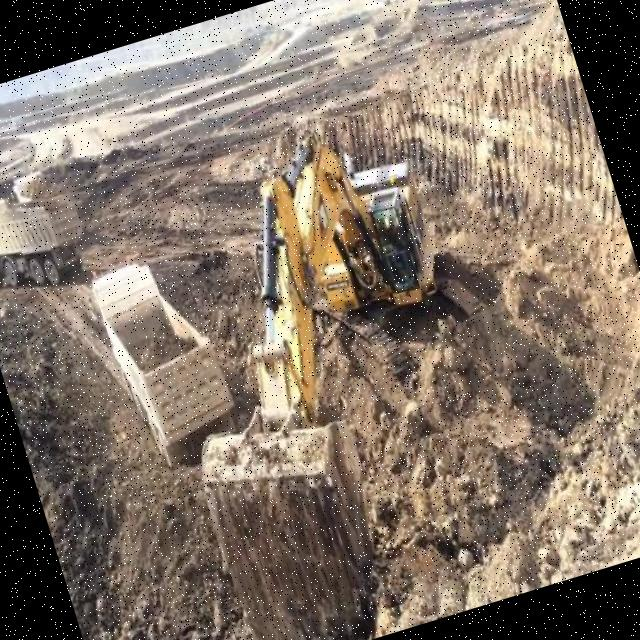Dump Truck: (77, 238, 250, 472), (0, 164, 94, 306)
Excavator: (107, 97, 544, 640)
